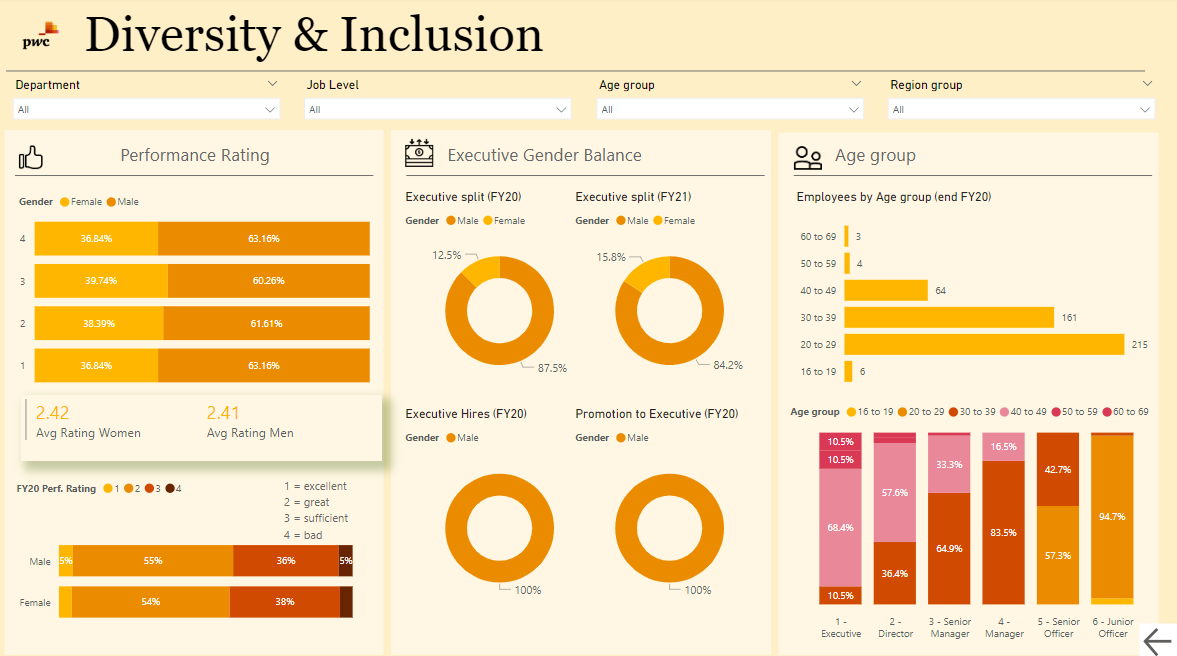

The dashboard page shown, as its layout file describes it:
{"tool":"powerbi","page":{"name":"HR Manager II","canvas":[1280,720],"ordinal":1},"visuals":[{"type":"basicShape","box":[3.9,139.9,418.6,579.7],"z":0},{"type":"slicer","fields":{"Values":["HR Manager.Job Level after FY20 promotions"]},"box":[322.5,83.9,310,55.9],"z":1000},{"type":"slicer","fields":{"Values":["HR Manager.Age group"]},"box":[638.2,83.9,310,55.9],"z":2000},{"type":"textbox","box":[88.7,4.8,1172.9,75.2],"z":3000},{"type":"basicShape","box":[0,60.8,1253,40.5],"z":4000},{"type":"basicShape","box":[422.2,139.6,420,579.7],"z":5000},{"type":"basicShape","box":[9.5,174.9,408,39.5],"z":6000},{"type":"textbox","box":[54.6,154.4,315.4,35.7],"z":7000},{"type":"multiRowCard","fields":{"Values":["HR Manager.Avg Rating Women","HR Manager.Avg Rating Men"]},"box":[25.7,431.7,391.1,71.7],"z":8000},{"type":"hundredPercentStackedBarChart","fields":{"Series":["HR Manager.FY20 Performance Rating"],"Category":["HR Manager.Gender"],"Y":["CountNonNull(HR Manager.Employee ID)"]},"box":[16.8,513.8,374.2,205.5],"z":9000},{"type":"image","box":[854.5,413.3,6.7,35.7],"z":10000},{"type":"image","box":[0,12.2,94.7,60.9],"z":11000},{"type":"basicShape","box":[842.2,141.8,420,577.5],"z":13000},{"type":"image","box":[19,156.4,35.7,35.7],"z":14000},{"type":"slicer","fields":{"Values":["HR Manager.Last Department in FY20"]},"box":[6.8,83.9,310,55.9],"z":15000},{"type":"slicer","fields":{"Values":["HR Manager.Broad region group: nationality 1"]},"box":[954,83.9,310,55.9],"z":16000},{"type":"textbox","box":[477.9,154.4,315.4,35.7],"z":17000},{"type":"basicShape","box":[432.8,174.9,408,39.5],"z":18000},{"type":"textbox","box":[897.8,154.4,315.4,35.7],"z":19000},{"type":"basicShape","box":[852.7,174.9,408,39.5],"z":20000},{"type":"hundredPercentStackedBarChart","fields":{"Category":["HR Manager.FY20 Performance Rating"],"Series":["HR Manager.Gender"],"Y":["Count(HR Manager.Employee ID)"]},"box":[19,204.4,389.8,225.6],"z":21000},{"type":"textbox","box":[306,516,100.5,81.5],"z":22000},{"type":"donutChart","title":"Executive split (FY21)","fields":{"Category":["HR Manager.Gender"],"Y":["CountNonNull(HR Manager.Employee ID)"]},"box":[621.1,209.9,214.5,220],"z":23000},{"type":"donutChart","title":"Executive split (FY20)","fields":{"Category":["HR Manager.Gender"],"Y":["CountNonNull(HR Manager.Employee ID)"]},"box":[436.8,209.9,214.5,220],"z":24000},{"type":"donutChart","title":"Executive Hires (FY20)","fields":{"Category":["HR Manager.Gender"],"Y":["CountNonNull(HR Manager.Employee ID)"]},"box":[436.7,444.7,214.5,220],"z":25000},{"type":"donutChart","title":"Promotion to Executive (FY20)","fields":{"Category":["HR Manager.Gender"],"Y":["CountNonNull(HR Manager.Employee ID)"]},"box":[621,444.7,214.5,220],"z":26000},{"type":"image","box":[857.8,153,40.2,44.7],"z":27000},{"type":"clusteredBarChart","title":"Employees by Age group (end FY20)","fields":{"Category":["HR Manager.Age group"],"Y":["CountNonNull(HR Manager.Employee ID)"]},"box":[861.2,210,392,225.6],"z":28000},{"type":"hundredPercentStackedColumnChart","fields":{"Category":["HR Manager.Job Level after FY21 promotions"],"Series":["HR Manager.Age group"],"Y":["CountNonNull(HR Manager.Employee ID)"]},"box":[854.5,431.1,406.6,273.6],"z":29000},{"type":"image","box":[436.7,147.4,40.2,44.7],"z":30000},{"type":"actionButton","box":[1237.6,679.1,42.4,40.5],"z":31000}]}

Visuals, with their boxes in screenshot pixels (x1, y1, x2, y2), scaled from the page's 1280x720 canvas onto the 1177x656 screenshot:
basicShape: rect(4, 127, 389, 655)
slicer - HR Manager.Job Level after FY20 promotions: rect(297, 76, 582, 127)
slicer - HR Manager.Age group: rect(587, 76, 872, 127)
textbox: rect(82, 4, 1160, 73)
basicShape: rect(0, 55, 1152, 92)
basicShape: rect(388, 127, 774, 655)
basicShape: rect(9, 159, 384, 195)
textbox: rect(50, 141, 340, 173)
multiRowCard - HR Manager.Avg Rating Women x HR Manager.Avg Rating Men: rect(24, 393, 383, 459)
hundredPercentStackedBarChart - HR Manager.FY20 Performance Rating x HR Manager.Gender: rect(15, 468, 360, 655)
image: rect(786, 377, 792, 409)
image: rect(0, 11, 87, 67)
basicShape: rect(774, 129, 1161, 655)
image: rect(17, 142, 50, 175)
slicer - HR Manager.Last Department in FY20: rect(6, 76, 291, 127)
slicer - HR Manager.Broad region group: nationality 1: rect(877, 76, 1162, 127)
textbox: rect(439, 141, 729, 173)
basicShape: rect(398, 159, 773, 195)
textbox: rect(826, 141, 1116, 173)
basicShape: rect(784, 159, 1159, 195)
hundredPercentStackedBarChart - HR Manager.FY20 Performance Rating x HR Manager.Gender: rect(17, 186, 376, 392)
textbox: rect(281, 470, 374, 544)
"Executive split (FY21)" donutChart: rect(571, 191, 768, 392)
"Executive split (FY20)" donutChart: rect(402, 191, 599, 392)
"Executive Hires (FY20)" donutChart: rect(402, 405, 599, 606)
"Promotion to Executive (FY20)" donutChart: rect(571, 405, 768, 606)
image: rect(789, 139, 826, 180)
"Employees by Age group (end FY20)" clusteredBarChart: rect(792, 191, 1152, 397)
hundredPercentStackedColumnChart - HR Manager.Job Level after FY21 promotions x HR Manager.Age group: rect(786, 393, 1160, 642)
image: rect(402, 134, 439, 175)
actionButton: rect(1138, 619, 1176, 655)
